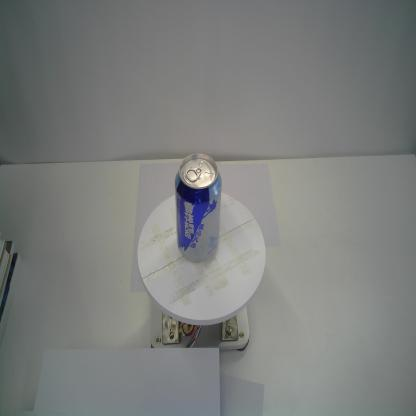Alcohol: (174, 154, 221, 264)
